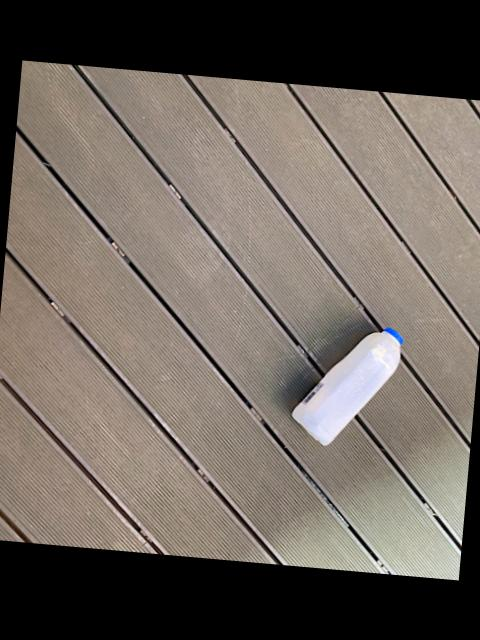plastic: (293, 326, 402, 444)
